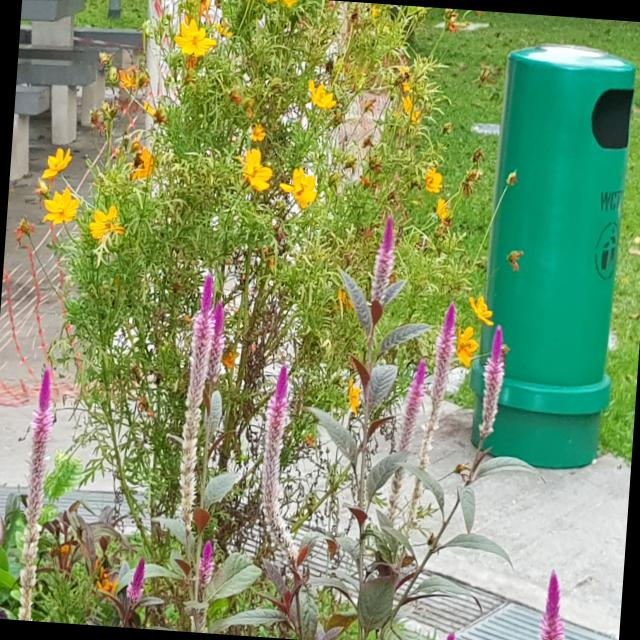Celosia-Argentea: (248, 346, 318, 562), (169, 268, 219, 522), (12, 335, 54, 616), (378, 364, 426, 548), (417, 294, 472, 440), (468, 306, 514, 445), (360, 212, 404, 338), (202, 288, 235, 384), (531, 564, 566, 640), (188, 536, 220, 600), (122, 555, 150, 616)
